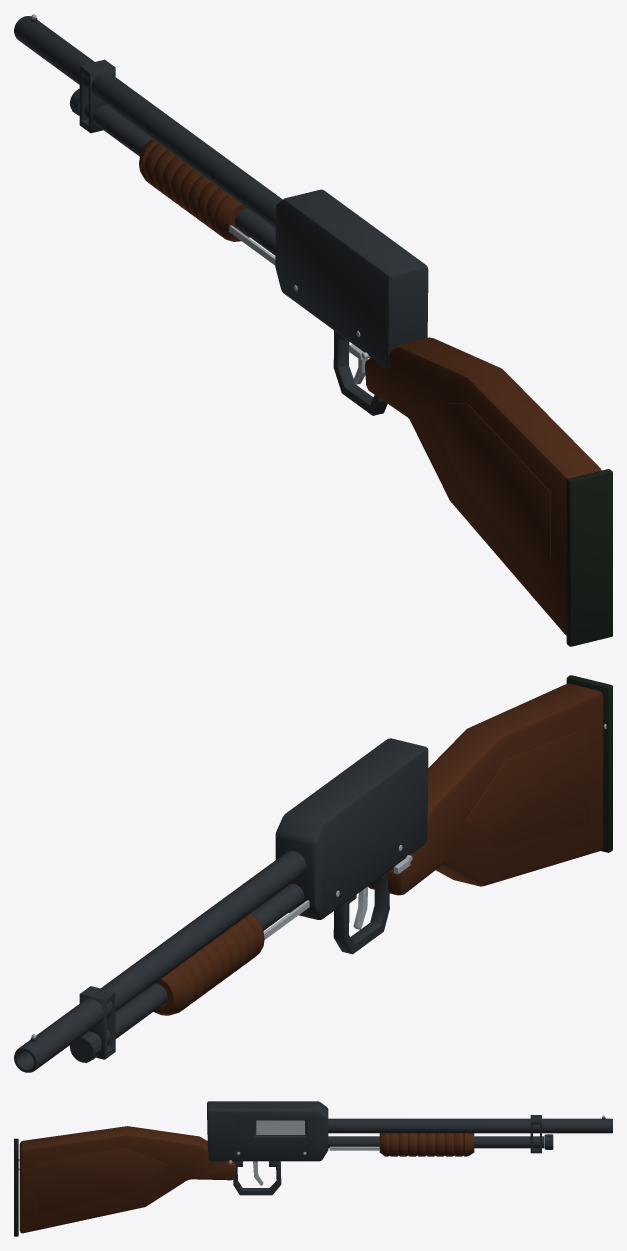
The model's file is shotgun.glb.
The picture shows the model from 3 angles, top to bottom: view 1: azimuth 30°, elevation 25°; view 2: azimuth 150°, elevation 25°; view 3: azimuth 270°, elevation 25°; orthographic projection. The views are drawn at different scales.
Parts seen in each view (by area): view 1: Walnut shoulder stock, 870 class rounded receiver, Walnut cheek panel, Shotgun barrel, Shotgun recoil pad, Grooved walnut pump slide, Tube magazine, Trigger guard, Barrel magazine clamp; view 2: Walnut shoulder stock, 870 class rounded receiver, Walnut cheek panel, Shotgun barrel, Grooved walnut pump slide, Tube magazine, Trigger guard, Shotgun recoil pad, Barrel magazine clamp, Magazine cap; view 3: Walnut shoulder stock, 870 class rounded receiver, Walnut cheek panel.001, Shotgun barrel, Grooved walnut pump slide, Tube magazine, Shotgun visible bolt, Trigger guard, Shotgun recoil pad, Barrel magazine clamp, Pump action bar.001.
Boxes of the visible parts, x1,y1,x2,y2 form: Walnut shoulder stock: (365,337,601,635); 870 class rounded receiver: (275,189,428,368); Walnut cheek panel: (426,403,550,587); Shotgun barrel: (14,16,282,228); Shotgun recoil pad: (566,469,612,646); Grooved walnut pump slide: (139,138,249,241); Tube magazine: (84,103,275,255); Trigger guard: (333,330,387,415); Barrel magazine clamp: (79,59,115,133); Walnut shoulder stock: (368,683,603,895); 870 class rounded receiver: (275,738,428,919); Walnut cheek panel: (465,727,589,847); Shotgun barrel: (14,850,306,1072); Grooved walnut pump slide: (153,913,264,1015); Tube magazine: (90,883,304,1046); Trigger guard: (333,872,389,954); Shotgun recoil pad: (566,675,612,852); Barrel magazine clamp: (79,986,115,1059); Magazine cap: (70,1031,101,1062); Walnut shoulder stock: (19,1126,236,1233); 870 class rounded receiver: (207,1101,328,1161); Walnut cheek panel.001: (37,1148,167,1213); Shotgun barrel: (328,1118,612,1133); Grooved walnut pump slide: (379,1133,474,1156); Tube magazine: (328,1136,544,1148); Shotgun visible bolt: (256,1120,304,1134); Trigger guard: (233,1161,281,1195); Shotgun recoil pad: (14,1138,18,1236); Barrel magazine clamp: (530,1115,541,1153); Pump action bar.001: (329,1146,380,1150).
Bounding box in the file's own units: 0.052 × 0.241 × 1.04.
